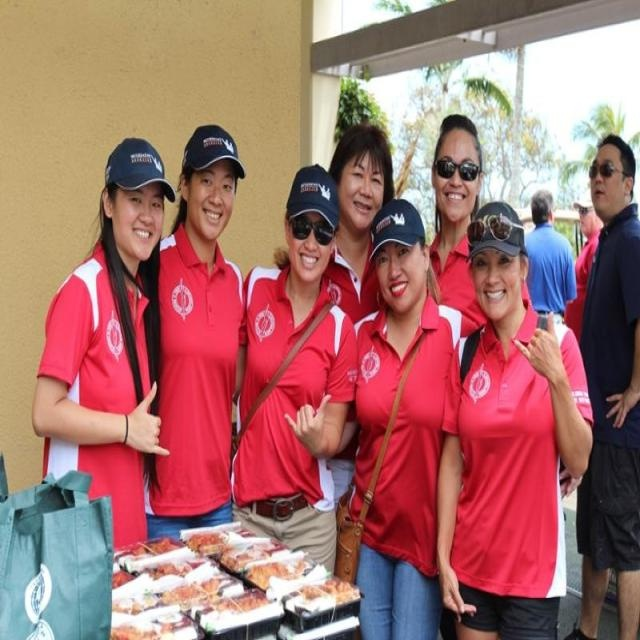Sin_Casco_Mascarrilla: (180, 125, 243, 234), (468, 207, 524, 322)
